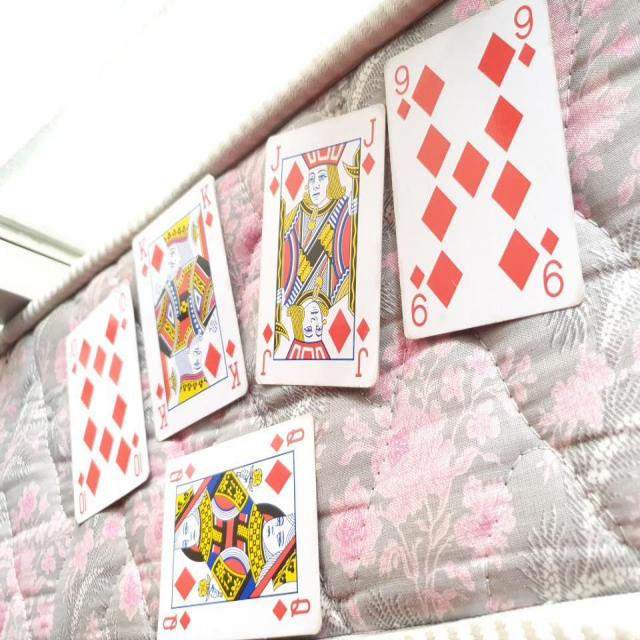10 Diamonds: (63, 280, 150, 525)
9 Diamonds: (382, 1, 586, 340)
J Diamonds: (252, 102, 387, 388)
K Diamonds: (130, 172, 249, 442)
Q Diamonds: (156, 410, 323, 640)
